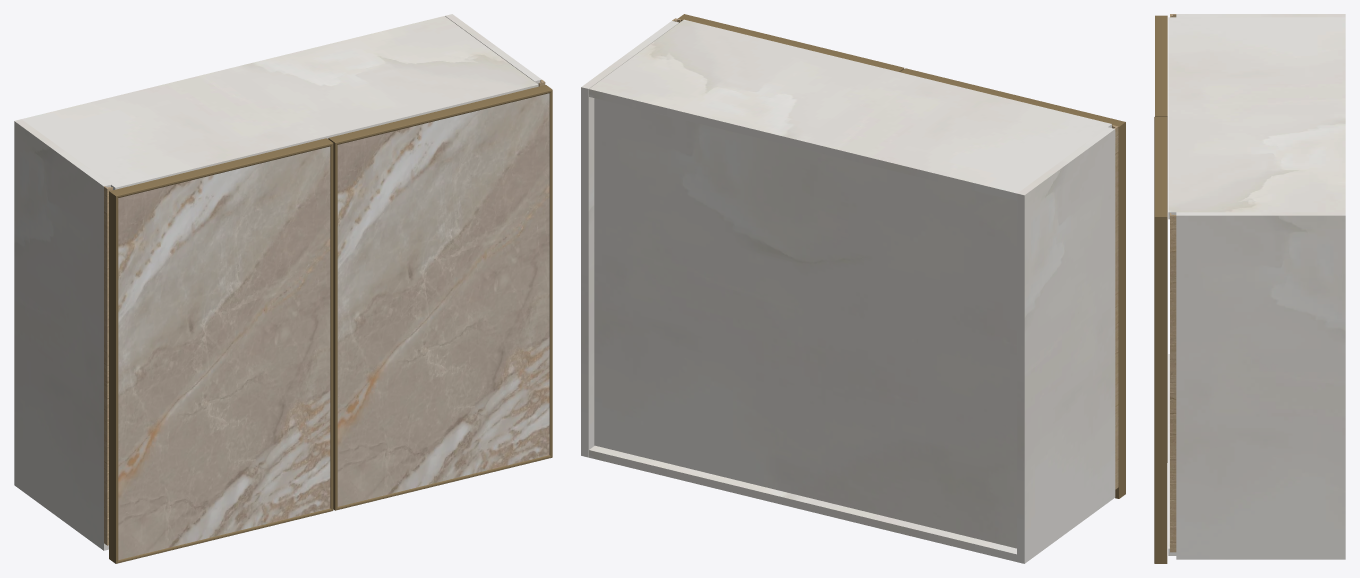
File: WB-SH-NHX-ST-1SG-LHS-XXX-900-725-336-15.glb
3 renders of one model, left to right at view 1: azimuth 30°, elevation 25°; view 2: azimuth 150°, elevation 25°; view 3: azimuth 270°, elevation 25°, orthographic. The views are drawn at different scales.
Parts seen in each view (by area): view 1: Object_node_6, Object_node_4, TP, TP_node_0, Extrusion_node_1, Extrusion, Extrusion_node_2, Extrusion_node_5, Object_node_8, Extrusion_node, Extrusion_node_3, Extrusion_node_4 (+2 smaller); view 2: TP_node_2, TP, TP_node_0, TP_node, TP_node_1, Extrusion_node_1, Object_node_8, Extrusion_node_2, Extrusion; view 3: TP_node_1, TP, Extrusion_node_3, Object_node_16, Extrusion_node_2, Extrusion, TP_node_0, TP_node, Extrusion_node.
Part boxes in pixels (x1,y1,x2,y2): Object_node_6: [337, 93, 549, 506]; Object_node_4: [118, 146, 330, 559]; TP: [22, 16, 538, 189]; TP_node_0: [14, 119, 110, 550]; Extrusion_node_1: [109, 191, 118, 563]; Extrusion: [109, 138, 333, 197]; Extrusion_node_2: [329, 85, 552, 144]; Extrusion_node_5: [328, 138, 337, 510]; Object_node_8: [104, 186, 112, 545]; Extrusion_node: [330, 144, 333, 510]; Extrusion_node_3: [549, 90, 552, 456]; Extrusion_node_4: [335, 455, 552, 510]; TP_node_2: [594, 98, 1016, 548]; TP: [589, 19, 1111, 200]; TP_node_0: [1017, 127, 1115, 563]; TP_node: [589, 445, 1016, 561]; TP_node_1: [581, 21, 678, 457]; Extrusion_node_1: [1115, 122, 1125, 498]; Object_node_8: [1112, 125, 1118, 489]; Extrusion_node_2: [678, 14, 903, 71]; Extrusion: [900, 68, 1125, 126]; TP_node_1: [1176, 212, 1345, 559]; TP: [1168, 17, 1345, 219]; Extrusion_node_3: [1154, 217, 1167, 563]; Object_node_16: [1170, 213, 1176, 552]; Extrusion_node_2: [1154, 116, 1167, 216]; Extrusion: [1155, 15, 1167, 115]; TP_node_0: [1176, 14, 1345, 17]; TP_node: [1168, 354, 1176, 555]; Extrusion_node: [1155, 116, 1167, 462].
Size of what is drawn, in the model's own units: 0.9 by 0.725 by 0.3602.
Materials: 6 (3 with a texture image).
